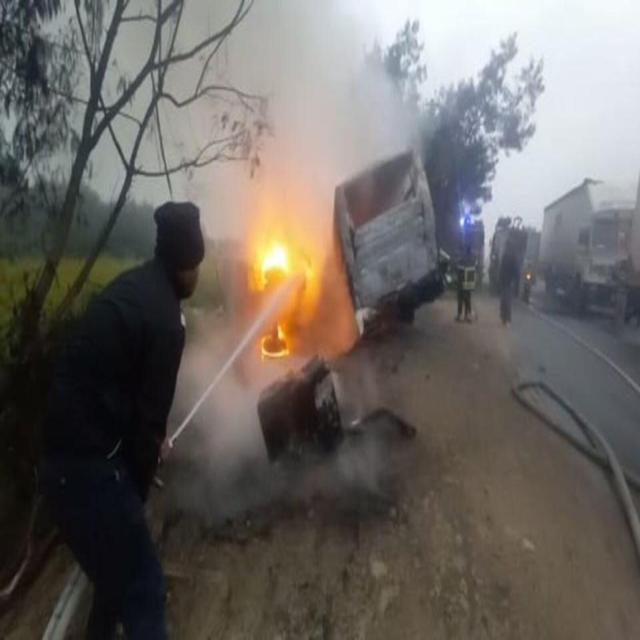accident: (250, 149, 450, 356)
